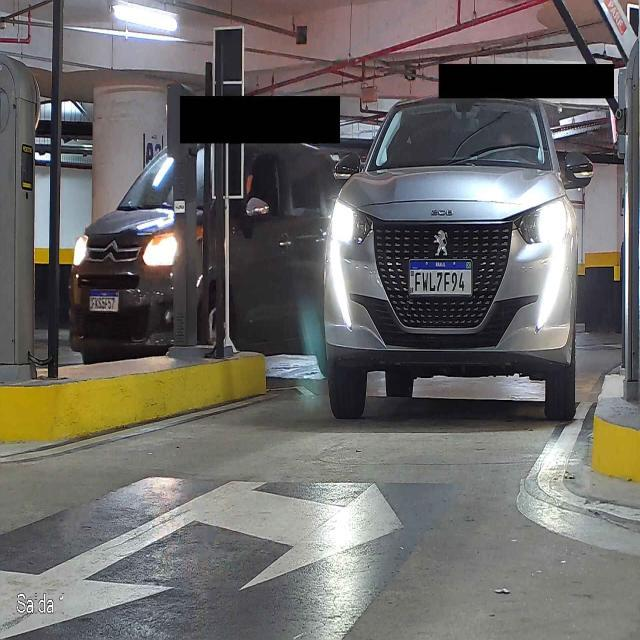mercosul_plate: (408, 258, 474, 298)
